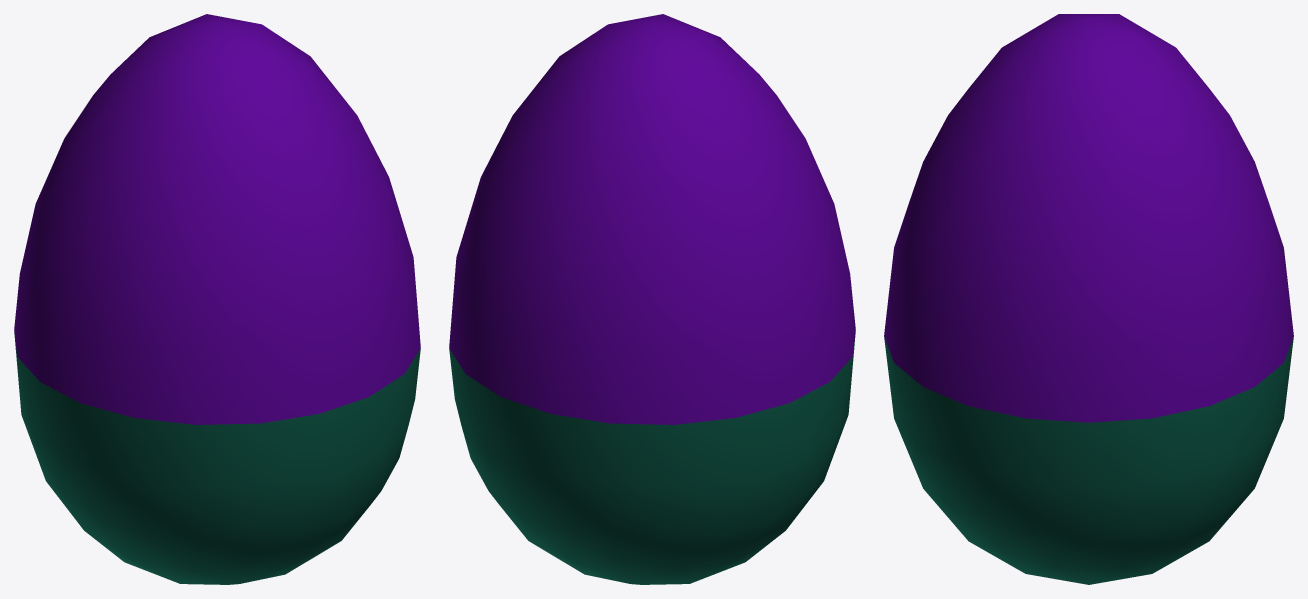
Rendered from person.glb.
The picture shows the model from 3 angles, left to right: view 1: azimuth 30°, elevation 25°; view 2: azimuth 150°, elevation 25°; view 3: azimuth 270°, elevation 25°; orthographic projection.
Parts seen in each view (by area): view 1: Person.Top, Person.Bottom; view 2: Person.Top, Person.Bottom; view 3: Person.Top, Person.Bottom.
Part boxes in pixels (bbox=[...]): Person.Top: bbox=[14, 14, 420, 424]; Person.Bottom: bbox=[14, 333, 420, 584]; Person.Top: bbox=[449, 14, 855, 424]; Person.Bottom: bbox=[449, 333, 855, 584]; Person.Top: bbox=[884, 14, 1293, 422]; Person.Bottom: bbox=[884, 336, 1293, 584].
Bounding box in the file's own units: 2 × 2.96 × 2.
Materials: 1 (1 with a texture image).
